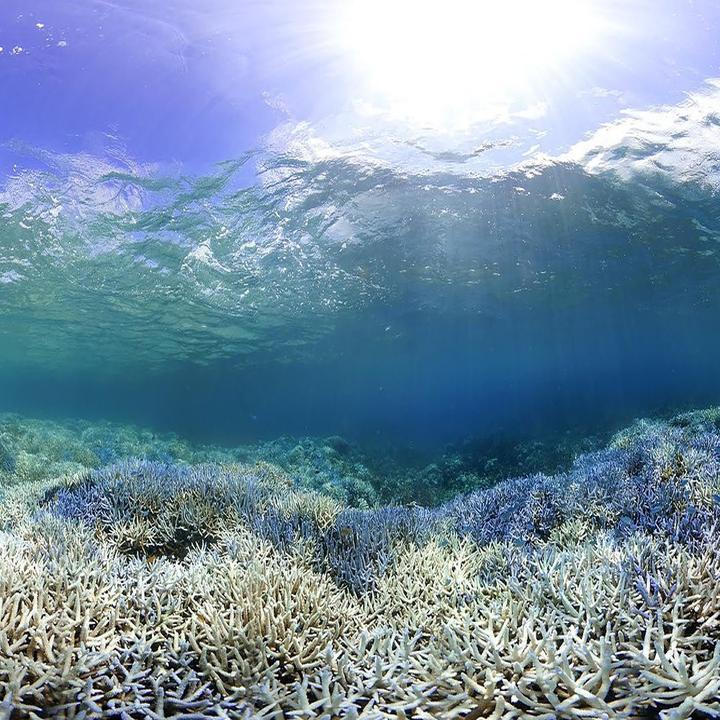Bleached disease: (5, 421, 719, 719)
